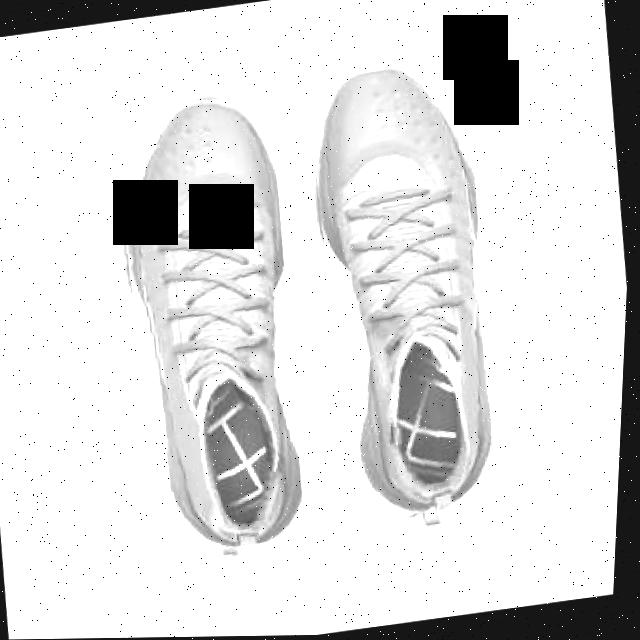shoe: (95, 85, 326, 560), (290, 59, 521, 529)
